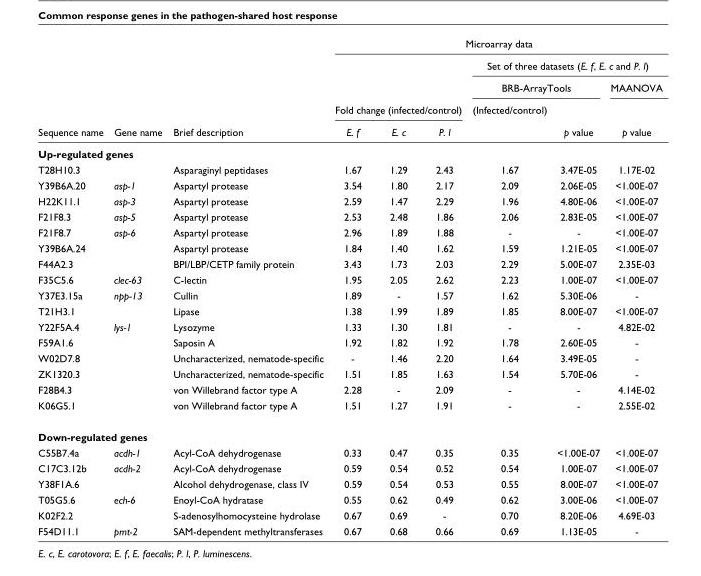table: (37, 37, 661, 536)
table column: (166, 37, 328, 536), (466, 37, 551, 536), (37, 37, 107, 536), (107, 37, 166, 536), (604, 37, 661, 536), (551, 37, 604, 536), (328, 37, 374, 536), (374, 37, 420, 536), (420, 37, 466, 536)
table column header: (37, 37, 661, 142)
table projected row header: (37, 420, 661, 444), (37, 142, 661, 161)
table row: (37, 420, 661, 444), (37, 397, 661, 420), (37, 54, 661, 76), (37, 76, 661, 98), (37, 98, 661, 120), (37, 120, 661, 142), (37, 142, 661, 161), (37, 37, 661, 54), (37, 161, 661, 177), (37, 192, 661, 208), (37, 208, 661, 224), (37, 239, 661, 255), (37, 255, 661, 271), (37, 271, 661, 287), (37, 302, 661, 318), (37, 318, 661, 334), (37, 349, 661, 365), (37, 365, 661, 381), (37, 381, 661, 397), (37, 459, 661, 475), (37, 475, 661, 491), (37, 491, 661, 507), (37, 177, 661, 192), (37, 224, 661, 239), (37, 287, 661, 302), (37, 334, 661, 349), (37, 444, 661, 459), (37, 507, 661, 522), (37, 522, 661, 536)
table spanning cell: (166, 37, 328, 142), (37, 37, 107, 142), (107, 37, 166, 142), (328, 37, 661, 54), (466, 54, 661, 76), (604, 76, 661, 142), (466, 98, 551, 142), (466, 76, 604, 98), (328, 98, 466, 120), (551, 98, 604, 142)
